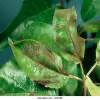Apple Scab Leaf: (8, 36, 72, 91), (54, 7, 87, 66)
